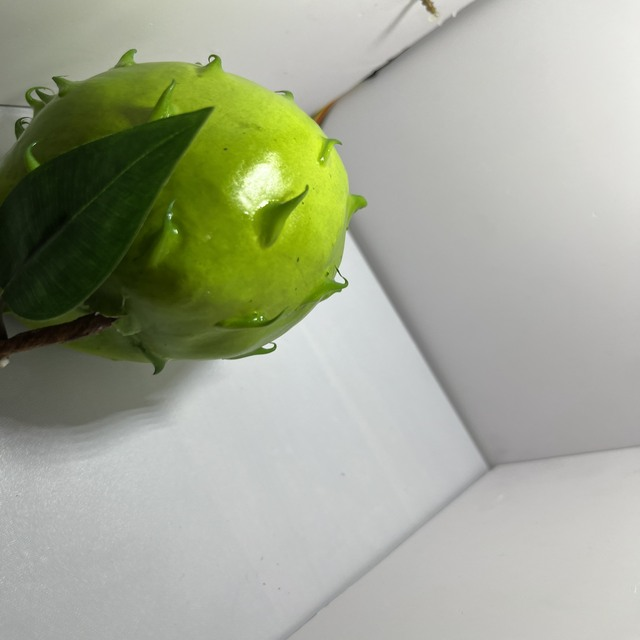Man cau: (0, 42, 387, 396)
